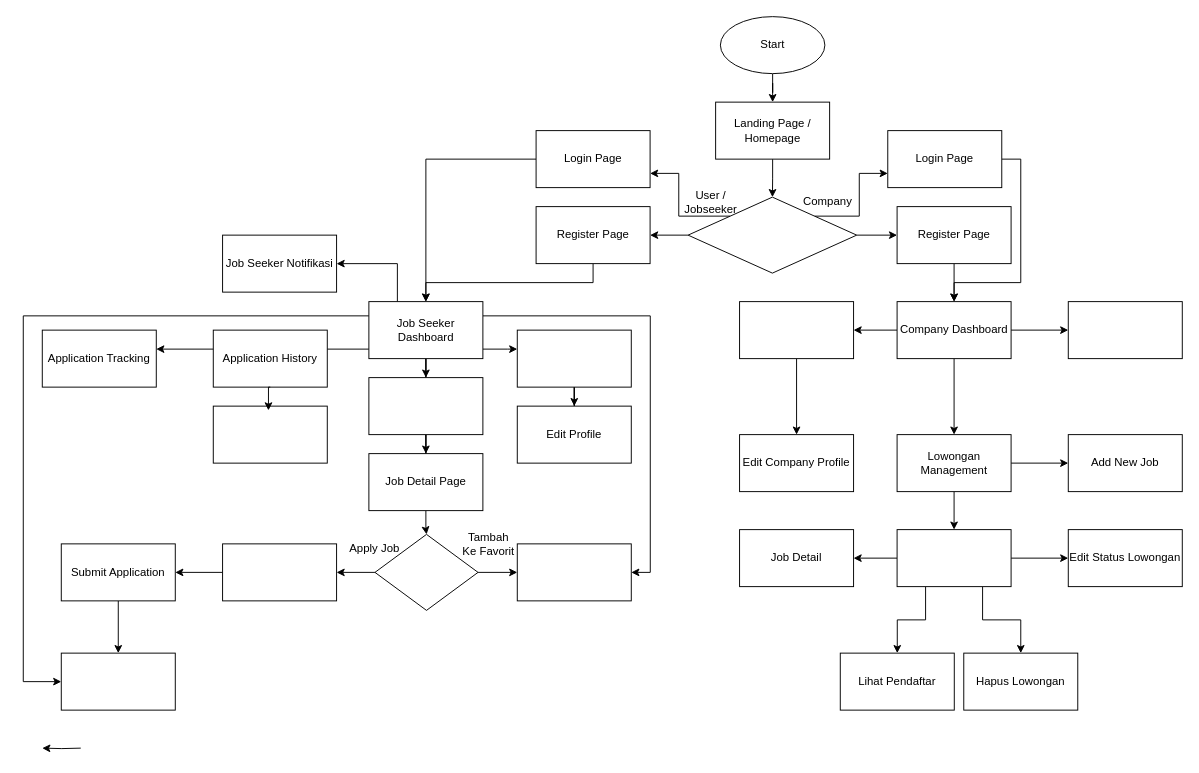
Image size: 1199x773. Some labels were removed from this diagram. Here are the shapes that lost their labels. From the top down, the box of each, then its label:
(687, 196, 857, 273): User Authentication
(739, 301, 854, 359): Company Profile
(1067, 301, 1182, 359): Notifikasi Company
(516, 329, 631, 387): Profile Management
(368, 377, 483, 435): Browse Job
(212, 405, 327, 463): View Application Status
(222, 543, 337, 601): Upload CV
(374, 533, 478, 610): Apply Job?
(516, 543, 631, 601): Favorit Job
(896, 529, 1011, 587): Daftar Lowongan
(60, 652, 175, 710): Dashboard Lamaran
